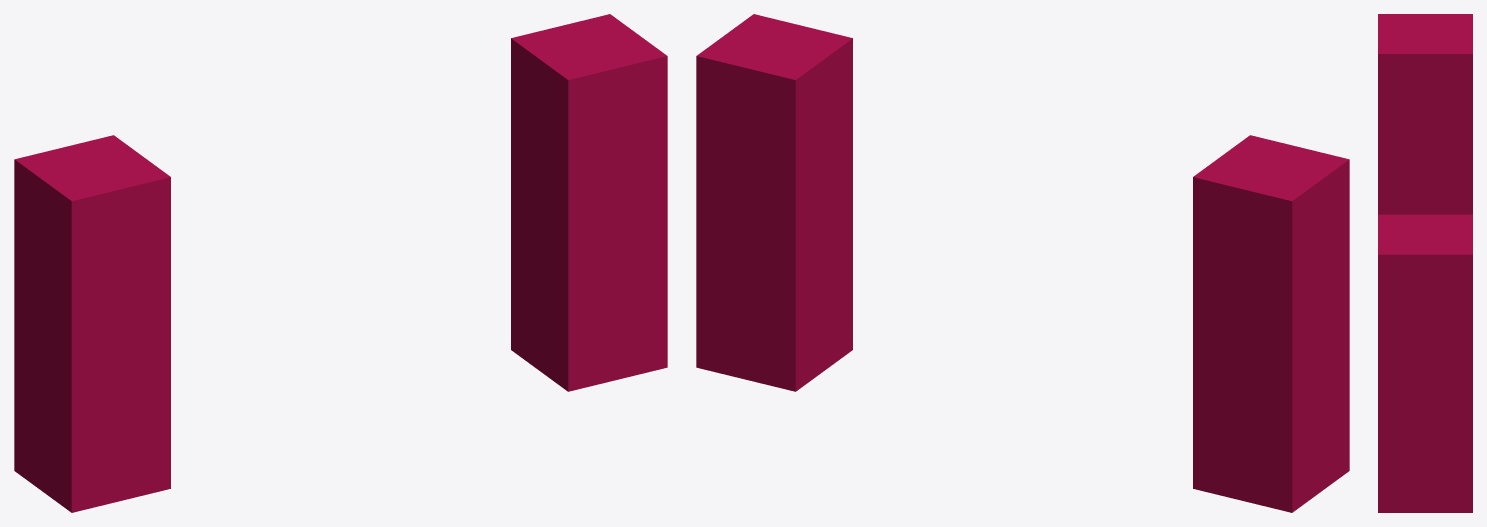
Rendered from nave3-vermelho.obj.
The picture shows the model from 3 angles, left to right: view 1: azimuth 30°, elevation 25°; view 2: azimuth 150°, elevation 25°; view 3: azimuth 270°, elevation 25°; orthographic projection. The views are drawn at different scales.
Size of the model in its own units: 0.6 by 0.3 by 0.1.
1 material, 1 textured.
